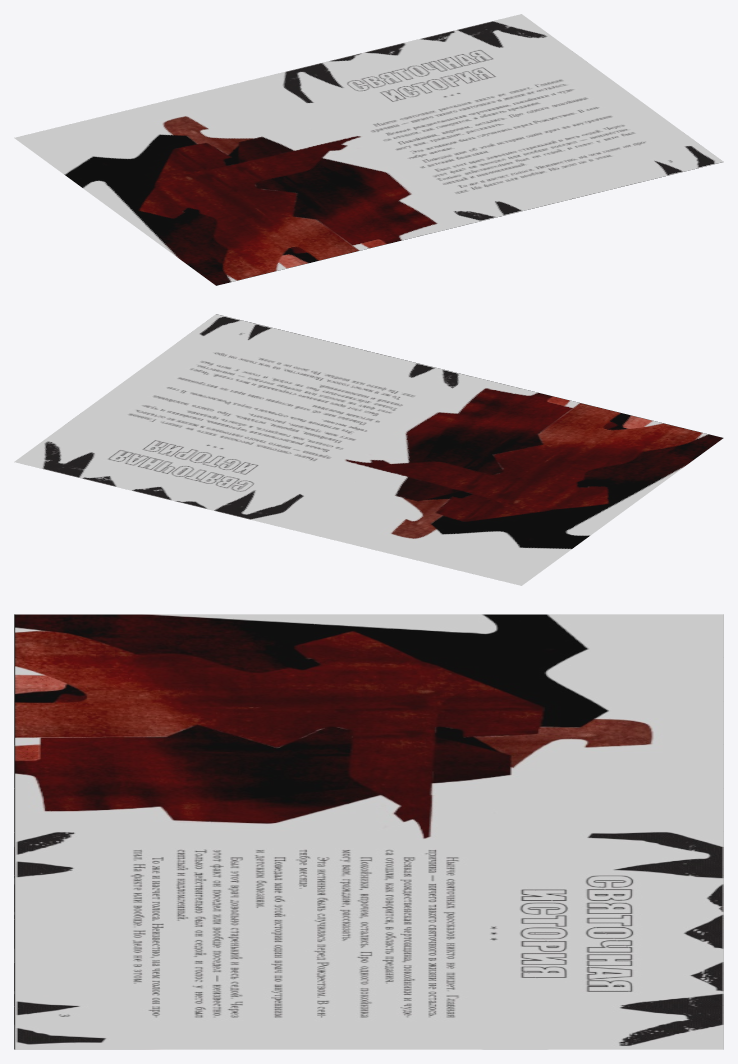
The model's file is asset.glb.
3 renders of one model, top to bottom at view 1: azimuth 30°, elevation 25°; view 2: azimuth 150°, elevation 25°; view 3: azimuth 270°, elevation 25°, orthographic. The views are drawn at different scales.
Parts seen in each view (by area): view 1: Plane; view 2: Plane; view 3: Plane.
Part boxes in pixels (x1,y1,x2,y2): Plane: (14,14,723,285); Plane: (14,314,723,585); Plane: (14,614,723,1049).
Bounding box in the file's own units: 29 × 0 × 20.
Materials: 1 (1 with a texture image).
